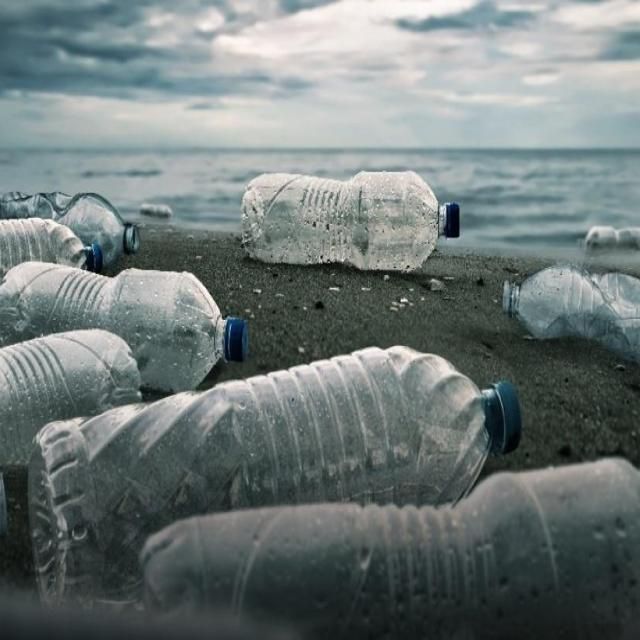plastic: (29, 343, 640, 640), (0, 264, 248, 460), (242, 166, 462, 271), (499, 268, 640, 371), (0, 187, 142, 268)
